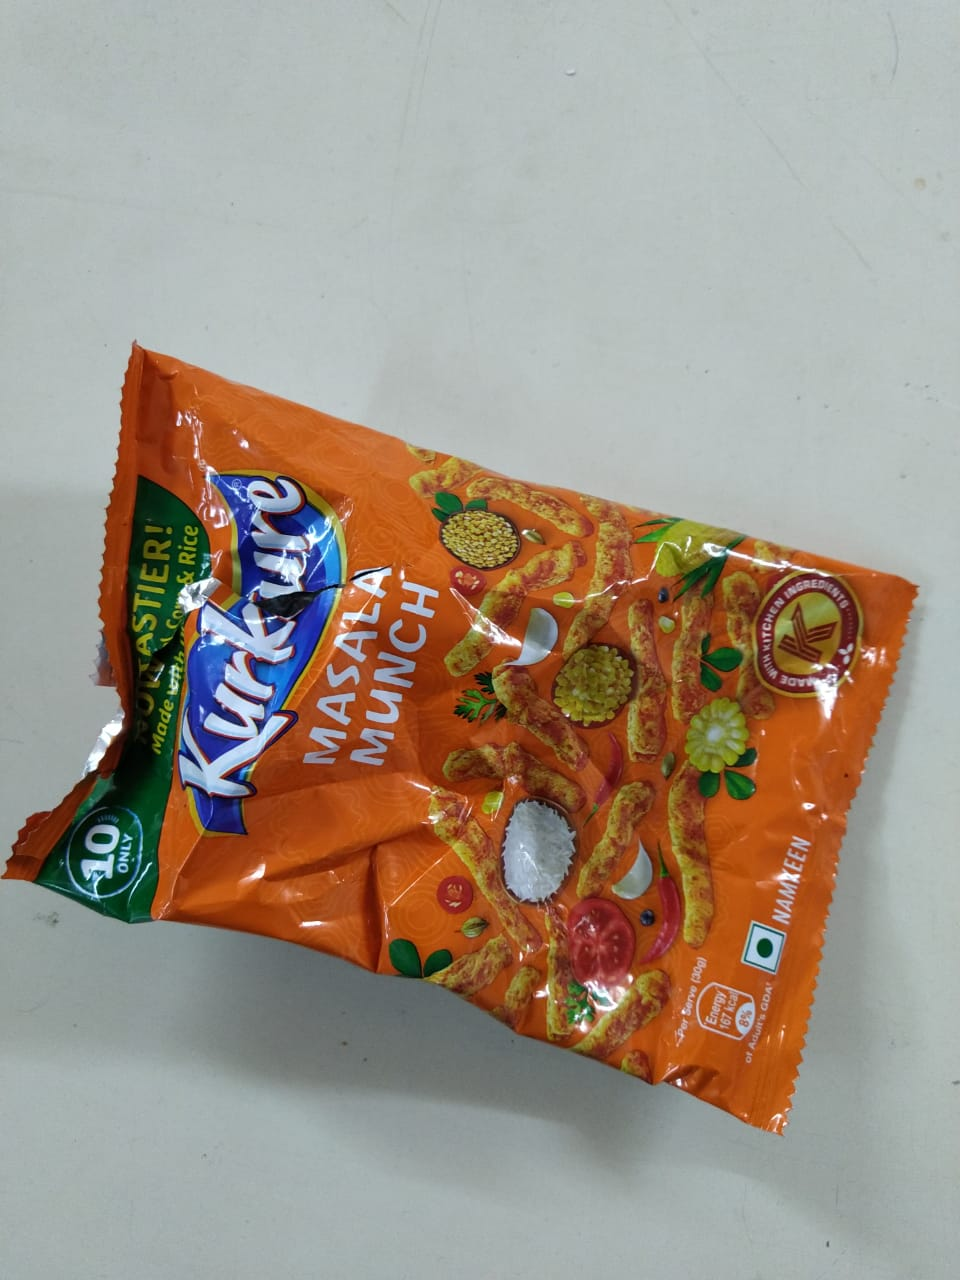kurkure: (161, 465, 361, 823), (174, 447, 325, 849), (186, 537, 317, 800), (217, 458, 339, 676)
plastic: (12, 318, 921, 1135)
wrapper: (94, 332, 837, 1117)
